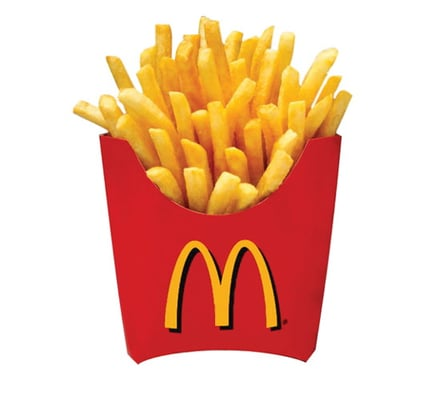pizza: (97, 111, 342, 367)
